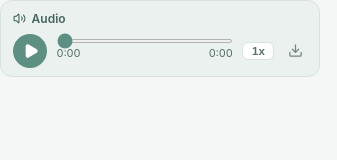
Scenario: AudioMessagePlayer Component › cycles playback speed between 1x, 1.5x, and 2x
Click the button with test id "audio-speed-btn" at [258, 51], box [242,42,274,60]
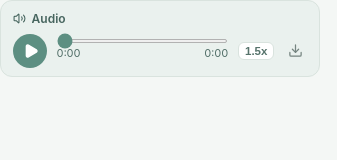
Result: the button with test id "audio-speed-btn" reads "1.5x"
Click the button with test id "audio-speed-btn" at [256, 51], box [238,42,274,60]
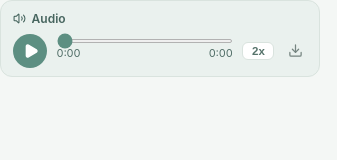
Result: the button with test id "audio-speed-btn" reads "2x"
Click the button with test id "audio-speed-btn" at [258, 51], box [242,42,274,60]
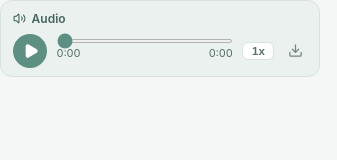
Result: the button with test id "audio-speed-btn" reads "1x" at [242,42,274,60]
